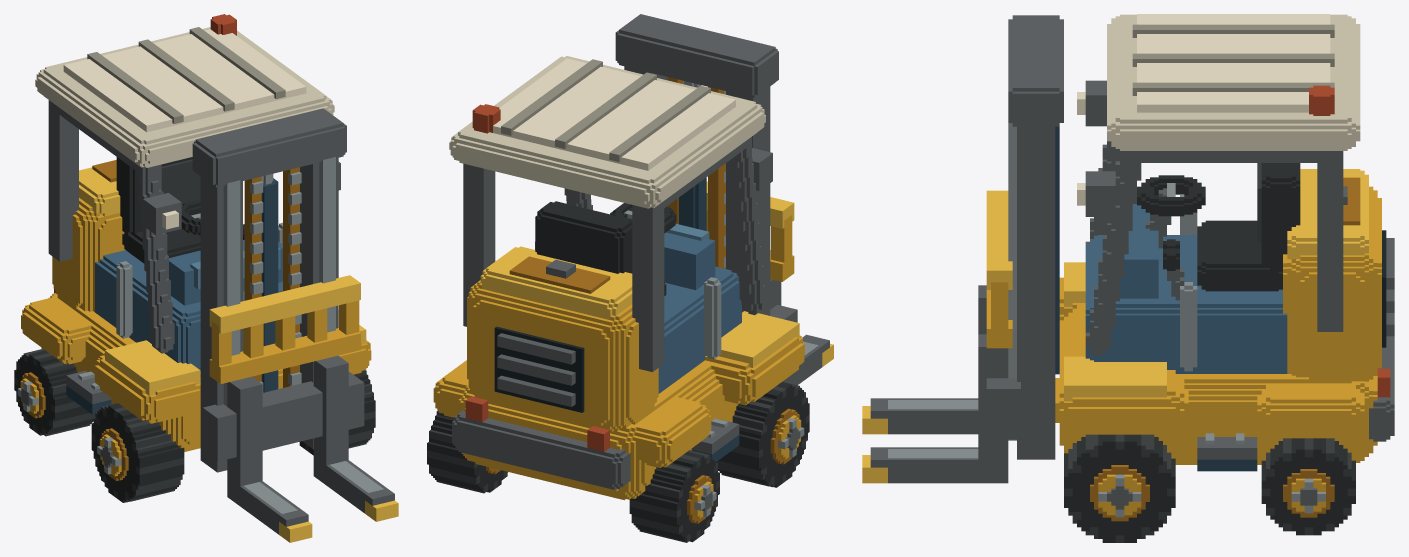
File: forklift.glb
The picture shows the model from 3 angles, left to right: view 1: azimuth 30°, elevation 25°; view 2: azimuth 150°, elevation 25°; view 3: azimuth 270°, elevation 25°; orthographic projection. The views are drawn at different scales.
Parts seen in each view (by area): view 1: forklift; view 2: forklift; view 3: forklift.
Boxes of the visible parts, x1,y1,x2,y2 form: forklift: [14, 14, 398, 542]; forklift: [427, 14, 833, 542]; forklift: [862, 14, 1394, 542].
Bounding box in the file's own units: 2.8 × 3.85 × 4.34.
